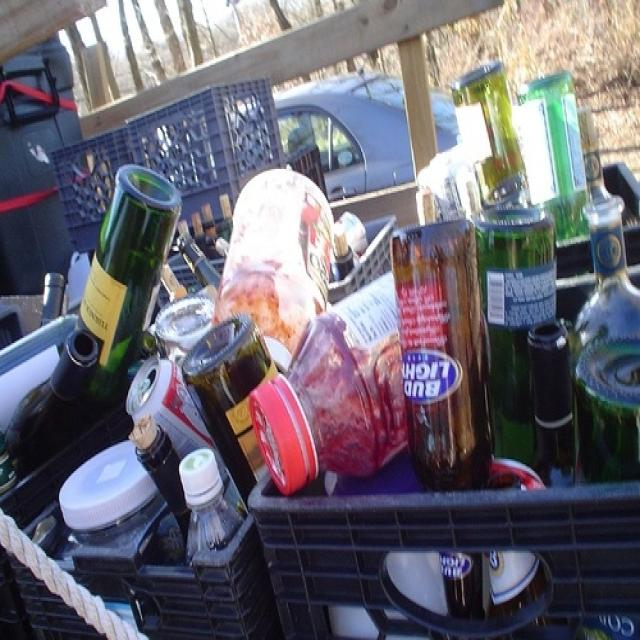Glass: (391, 51, 640, 487), (2, 168, 184, 424)
Plastics: (172, 438, 238, 564)
can: (229, 155, 332, 341)
